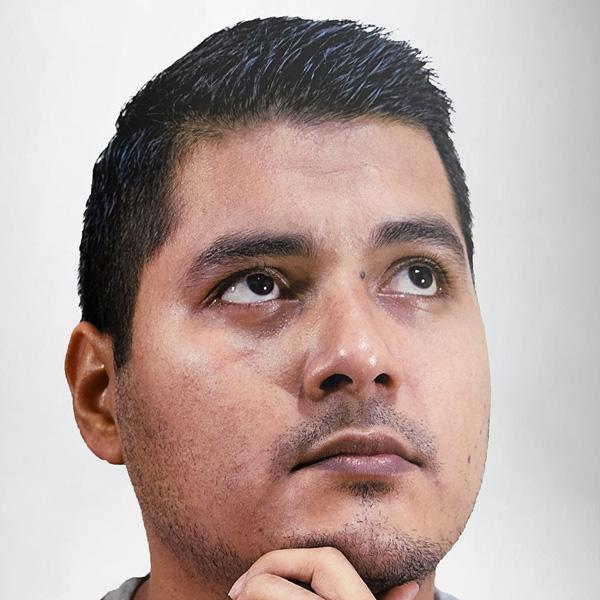Eyes: (194, 257, 305, 325), (365, 245, 463, 318)
